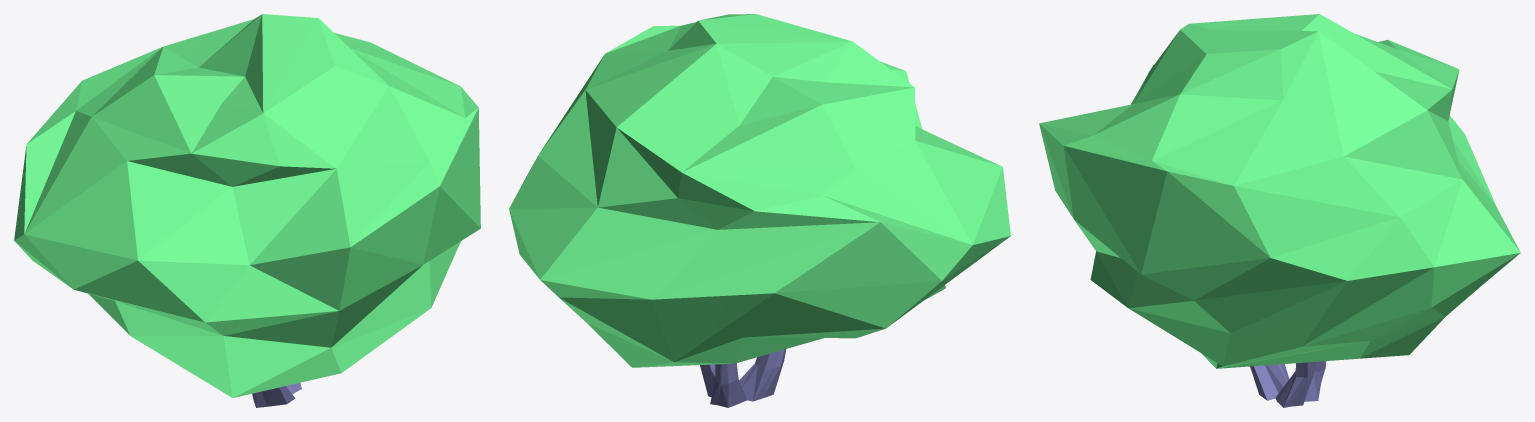
File: SM_Bush_03.fbx
3 views of the same model, side by side, from view 1: azimuth 30°, elevation 25°; view 2: azimuth 150°, elevation 25°; view 3: azimuth 270°, elevation 25° (orthographic).
Parts seen in each view (by area): view 1: LOW_POLY_Bush_; view 2: LOW_POLY_Bush_; view 3: LOW_POLY_Bush_.
Boxes of the visible parts, x1,y1,x2,y2 form: LOW_POLY_Bush_: (14, 14, 480, 407); LOW_POLY_Bush_: (509, 14, 1010, 407); LOW_POLY_Bush_: (1039, 14, 1520, 407).
Size of the model in its own units: 172 by 142 by 169.
